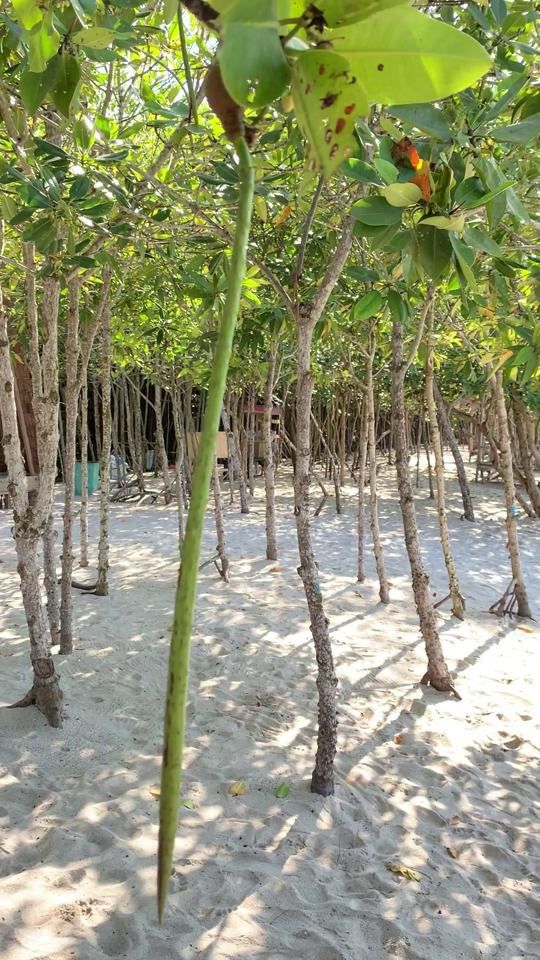mentah: (133, 41, 279, 933)
